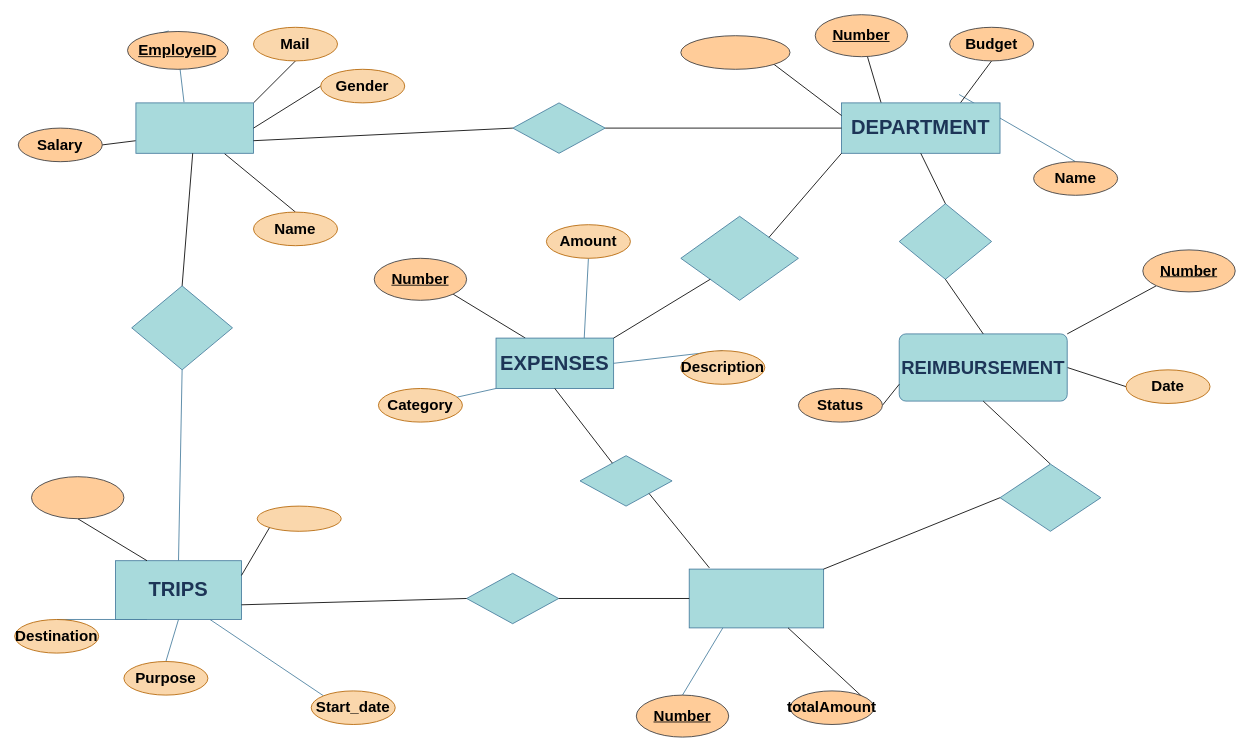
Image size: 1250x752. Some labels were removed from this diagram. The centre of each missing label's shape, as x and y in pixels:
"EMPLOYEE" goes at pixel 194 127.
"End_Date" goes at pixel 298 518.
"goes" goes at pixel 182 327.
"Has" goes at pixel 512 598.
"id" goes at pixel 77 497.
"Location" goes at pixel 735 52.
"Makes" goes at pixel 739 257.
"RECEIPT" goes at pixel 756 598.
"Reflects" goes at pixel 625 480.
"Send" goes at pixel 945 241.
"Transacts" goes at pixel 1050 497.
"work" goes at pixel 558 127.
